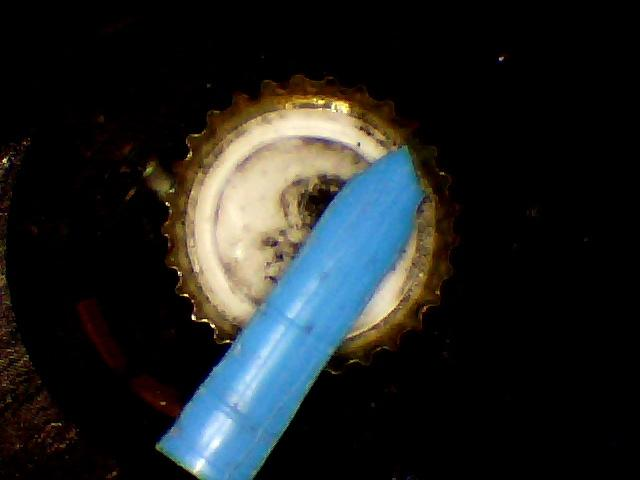capsule: (149, 69, 466, 379)
